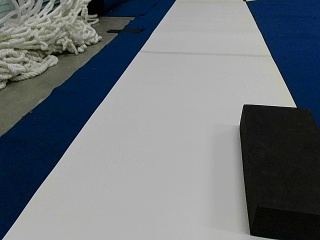block: (240, 105, 318, 237)
